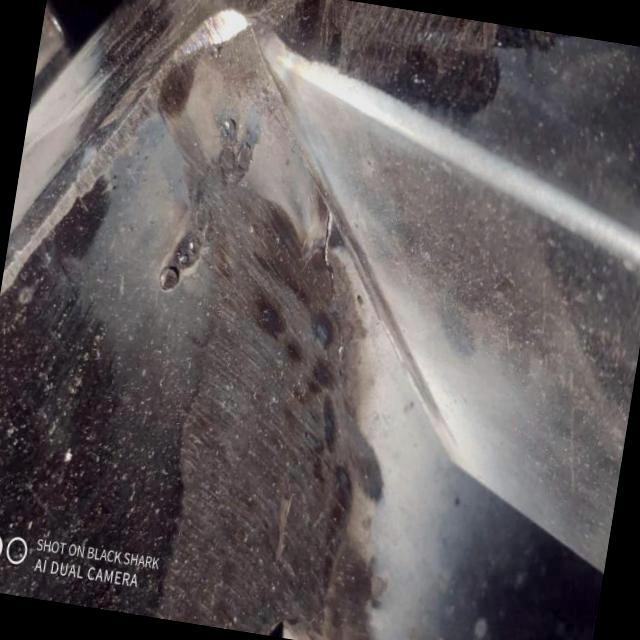defect: (314, 203, 349, 367)
